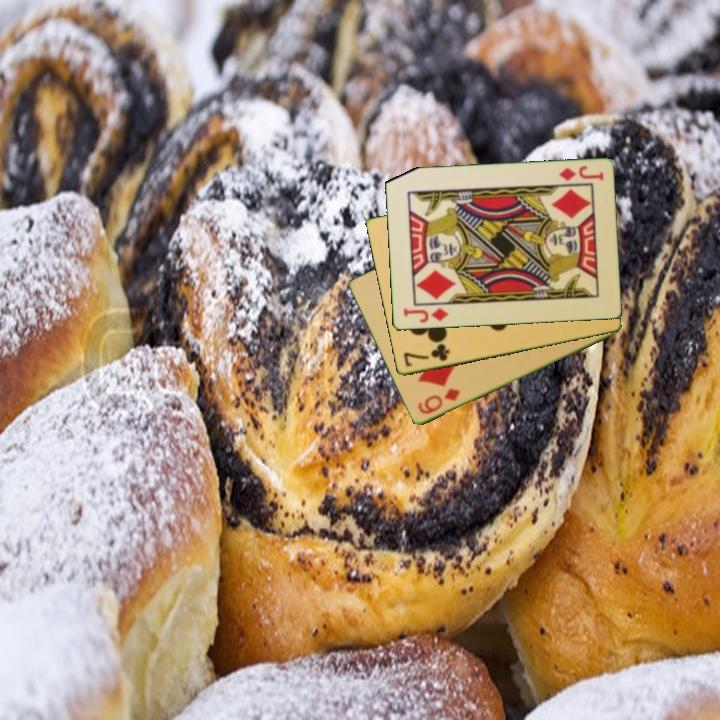6d: (414, 385, 463, 418)
7c: (400, 341, 452, 370)
Jd: (400, 304, 451, 326), (555, 163, 606, 184)
